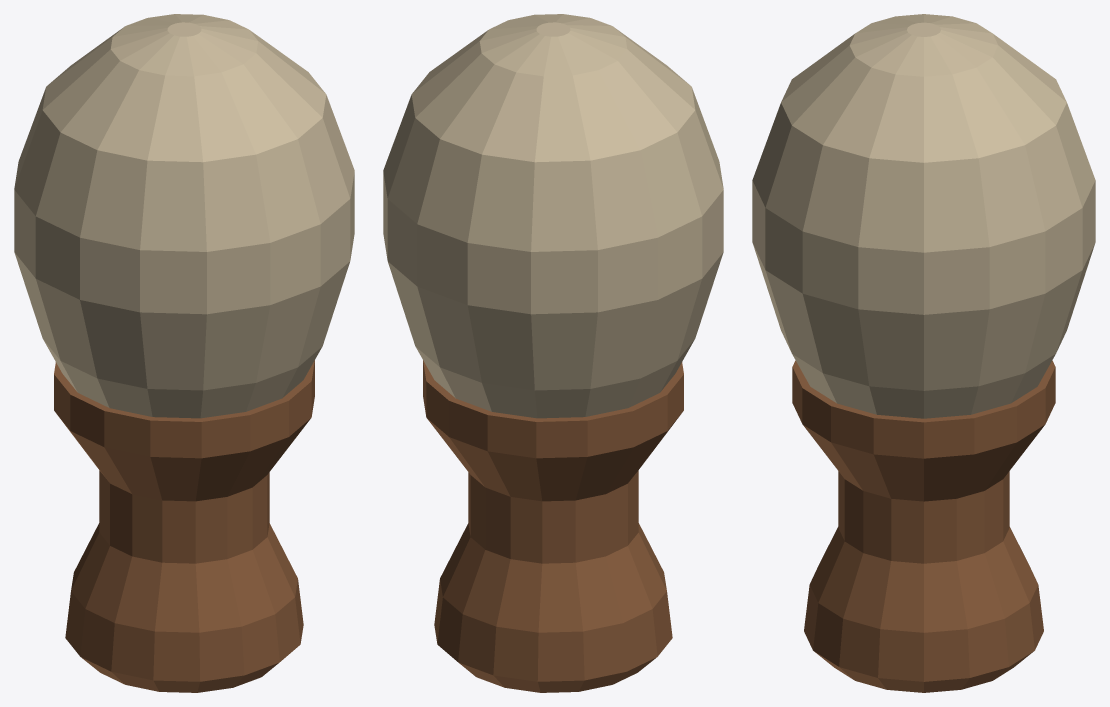
File: shaving-brush.glb
3 renders of one model, left to right at view 1: azimuth 30°, elevation 25°; view 2: azimuth 150°, elevation 25°; view 3: azimuth 270°, elevation 25°, orthographic.
Visible parts, largest first — view 1: bristle, wood; view 2: bristle, wood; view 3: bristle, wood.
Part boxes in pixels (bbox=[...]): bristle: bbox=[14, 14, 354, 418]; wood: bbox=[54, 360, 314, 692]; bristle: bbox=[383, 14, 723, 418]; wood: bbox=[423, 360, 683, 692]; bristle: bbox=[752, 14, 1095, 418]; wood: bbox=[792, 360, 1055, 692].
Bounding box in the file's own units: 0.06 × 0.12 × 0.06.
